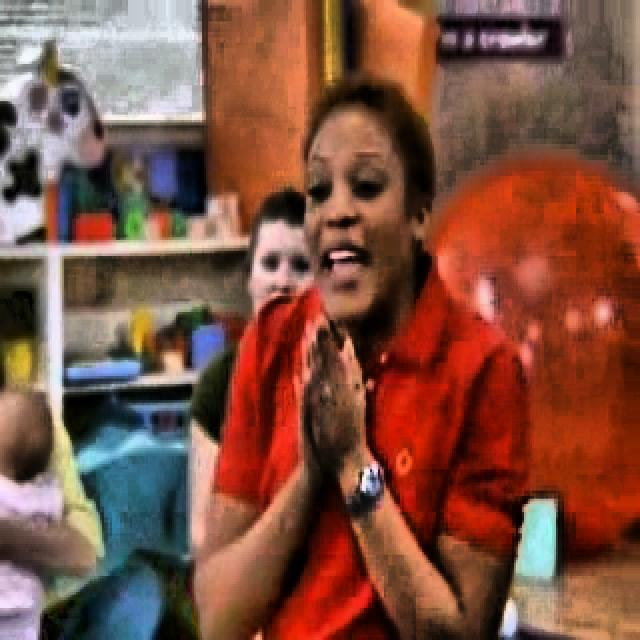F: (220, 73, 500, 640)
